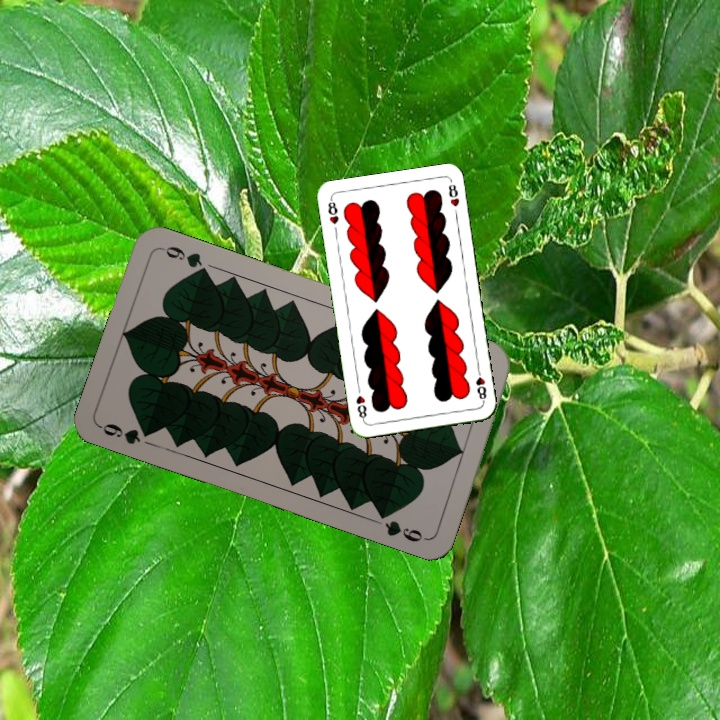G9: (96, 419, 157, 447)
H8: (472, 364, 489, 405), (324, 195, 341, 227)
